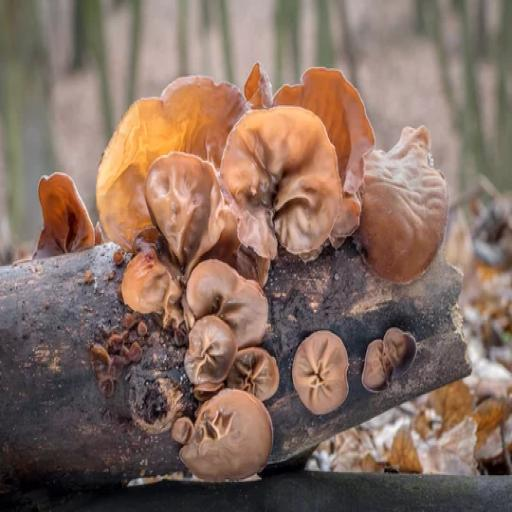Wood Ear Mushroom: (99, 78, 446, 282), (115, 247, 278, 396), (159, 380, 272, 486), (25, 166, 103, 258), (288, 326, 355, 418), (361, 328, 420, 404)
